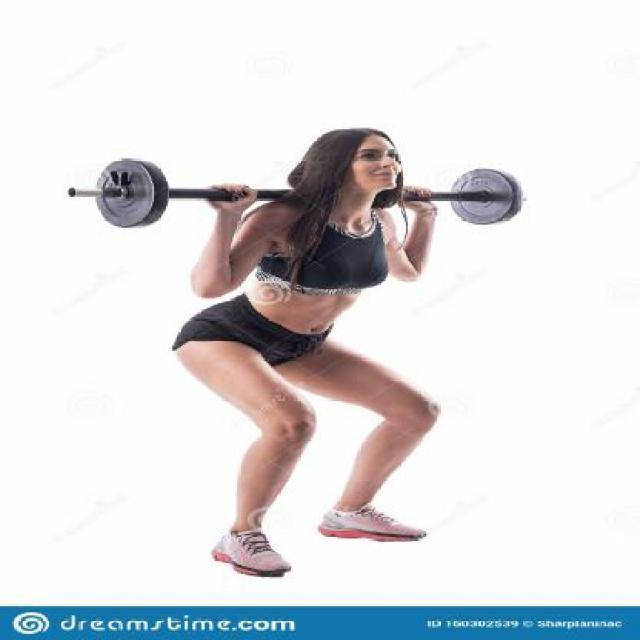Barbell: (56, 184, 87, 201)
